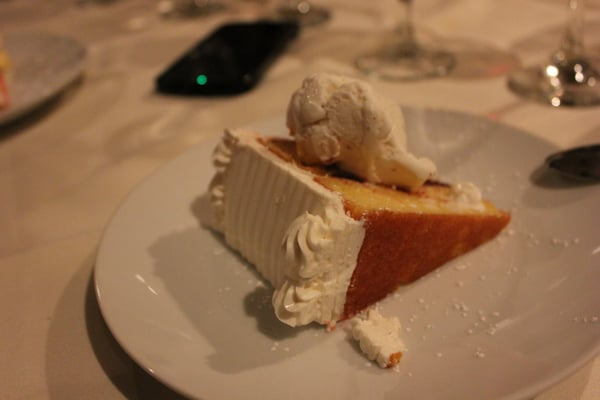curry: (2, 0, 592, 395), (155, 16, 302, 95)
sandwich: (355, 0, 457, 80)
sushi: (190, 68, 512, 332)
